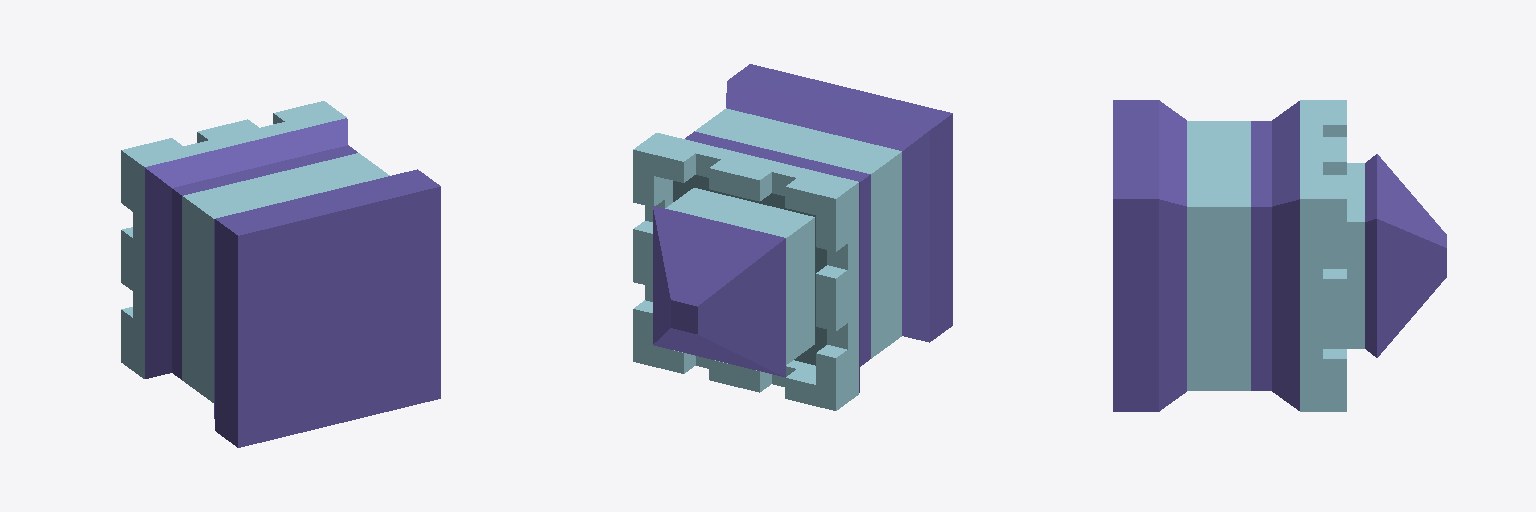
The model's file is towerSquare_sampleA_city.005.obj.
The picture shows the model from 3 angles: view 1: azimuth 30°, elevation 25°; view 2: azimuth 150°, elevation 25°; view 3: azimuth 270°, elevation 25°; orthographic projection.
Parts seen in each view (by area): view 1: towerSquare_sampleA.001; view 2: towerSquare_sampleA.001; view 3: towerSquare_sampleA.001.
Boxes of the visible parts, box(x1,y1,x2,y2) form: towerSquare_sampleA.001: box(121, 101, 440, 447); towerSquare_sampleA.001: box(633, 64, 952, 410); towerSquare_sampleA.001: box(1113, 100, 1446, 411).
Bounding box in the file's own units: 1 × 1 × 1.43.